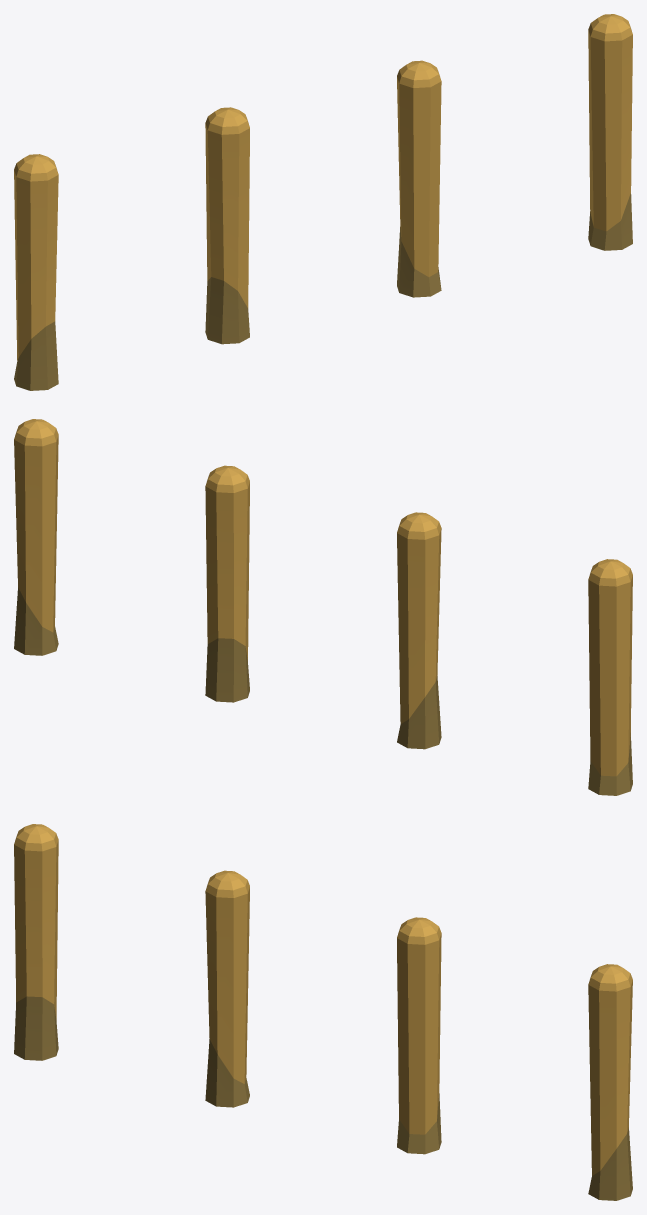
File: SM_Prop_SidewalkPoles_01.obj
The picture shows the model from 3 angles, top to bottom: view 1: azimuth 30°, elevation 25°; view 2: azimuth 150°, elevation 25°; view 3: azimuth 330°, elevation 25°; orthographic projection.
Parts seen in each view (by area): view 1: SM_Prop_SidewalkPoles_01_0; view 2: SM_Prop_SidewalkPoles_01_0; view 3: SM_Prop_SidewalkPoles_01_0.
Part boxes in pixels (x1=…): SM_Prop_SidewalkPoles_01_0: x1=14, y1=14, x2=632, y2=390; SM_Prop_SidewalkPoles_01_0: x1=14, y1=419, x2=632, y2=795; SM_Prop_SidewalkPoles_01_0: x1=14, y1=824, x2=632, y2=1200.
Size of the model in its own units: 3.21 by 1.12 by 0.2093.
1 material, 1 textured.
